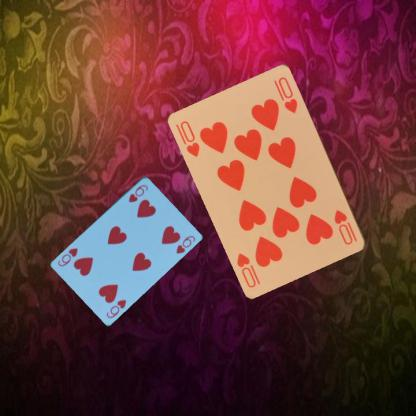10h: (332, 207, 359, 247), (178, 118, 202, 159)
6h: (103, 297, 128, 319), (126, 182, 149, 203)
